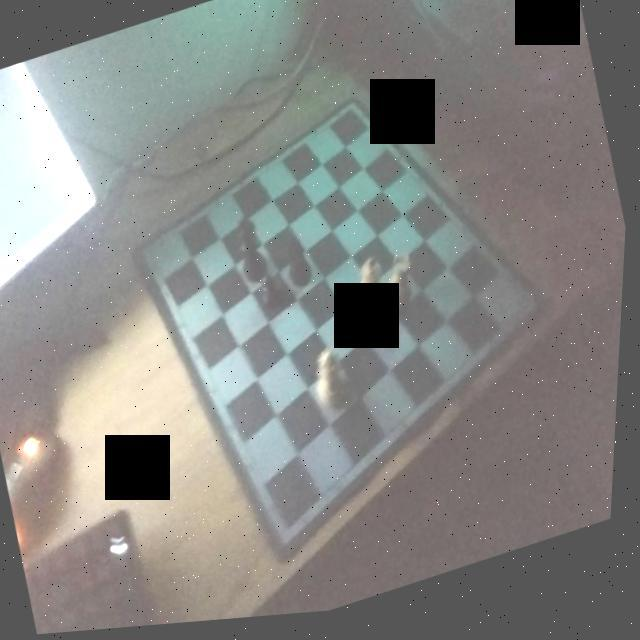chess-table-corners: (138, 237, 168, 270), (341, 101, 366, 129), (282, 521, 305, 548), (520, 302, 542, 326)
